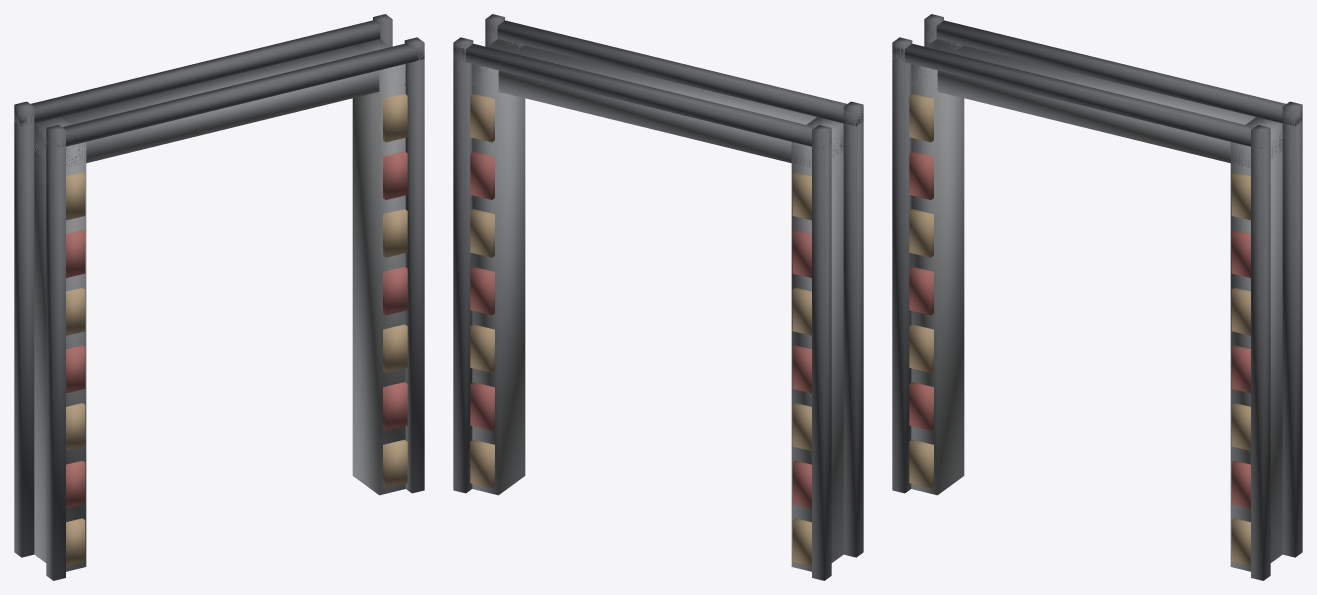
Rendered from doorway_brick_return_w152_h200_d24.glb.
3 renders of one model, left to right at view 1: azimuth 30°, elevation 25°; view 2: azimuth 150°, elevation 25°; view 3: azimuth 330°, elevation 25°, orthographic.
Visible parts, largest first — view 1: world; view 2: world; view 3: world.
Boxes of the visible parts, x1=… form: world: x1=14, y1=14, x2=424, y2=580; world: x1=453, y1=14, x2=863, y2=580; world: x1=892, y1=14, x2=1302, y2=580.
Size of the model in its own units: 1.92 by 2.22 by 0.3516.
